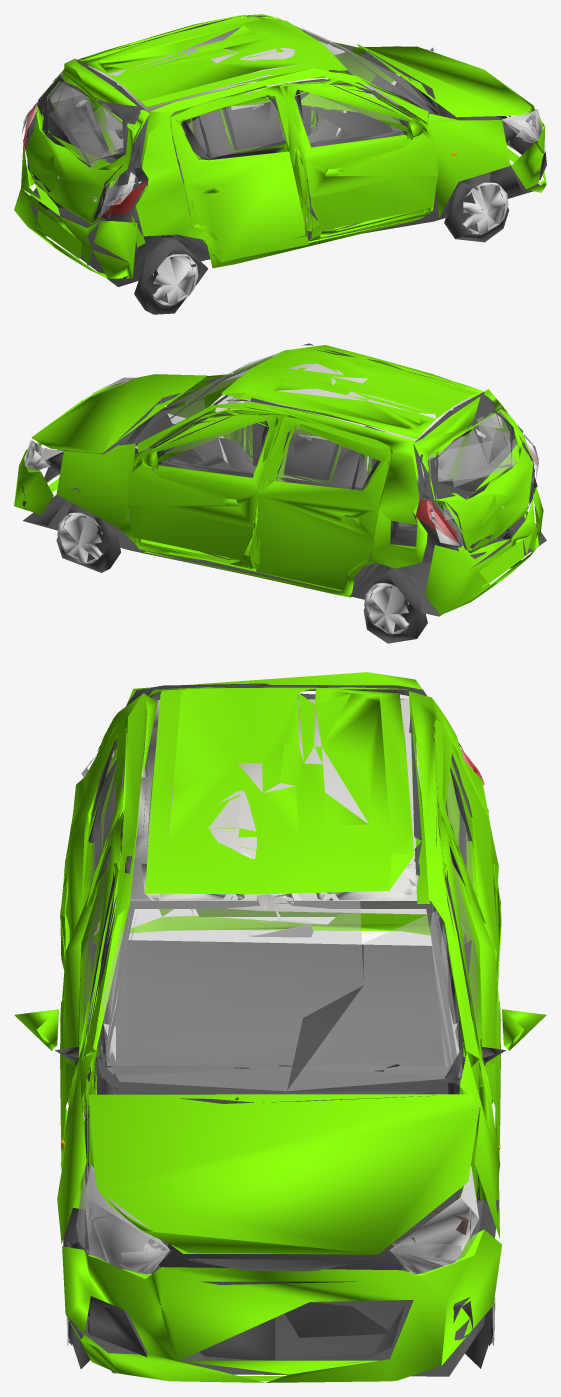
Rendered from altok10.glb.
3 views of the same model, one above another, from view 1: azimuth 30°, elevation 25°; view 2: azimuth 150°, elevation 25°; view 3: azimuth 270°, elevation 25° (orthographic). The views are drawn at different scales.
Parts seen in each view (by area): view 1: car_paint, car_detail, car_glass; view 2: car_paint, car_detail, car_glass; view 3: car_paint, car_detail, car_glass.
Boxes of the visible parts, left/top/right/bottom form: car_paint: left=14, top=14, right=546, bottom=278; car_detail: left=21, top=16, right=546, bottom=314; car_glass: left=23, top=27, right=542, bottom=219; car_paint: left=14, top=345, right=543, bottom=614; car_detail: left=21, top=343, right=546, bottom=643; car_glass: left=24, top=352, right=538, bottom=542; car_paint: left=14, top=672, right=546, bottom=1382; car_detail: left=55, top=683, right=505, bottom=1376; car_glass: left=76, top=749, right=484, bottom=1274.
Bounding box in the file's own units: 3.59 × 1.51 × 1.86.
